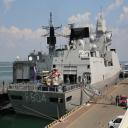Fragata: (4, 1, 124, 122)
